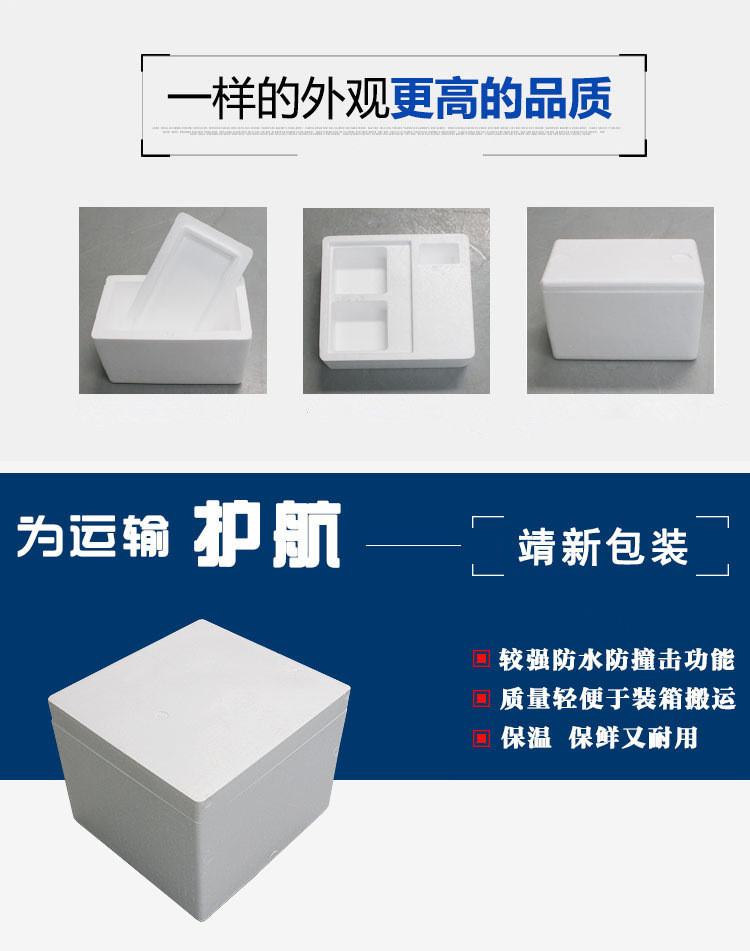泡沫箱: (49, 620, 350, 921), (92, 214, 253, 385), (319, 234, 475, 389), (542, 239, 703, 361)
